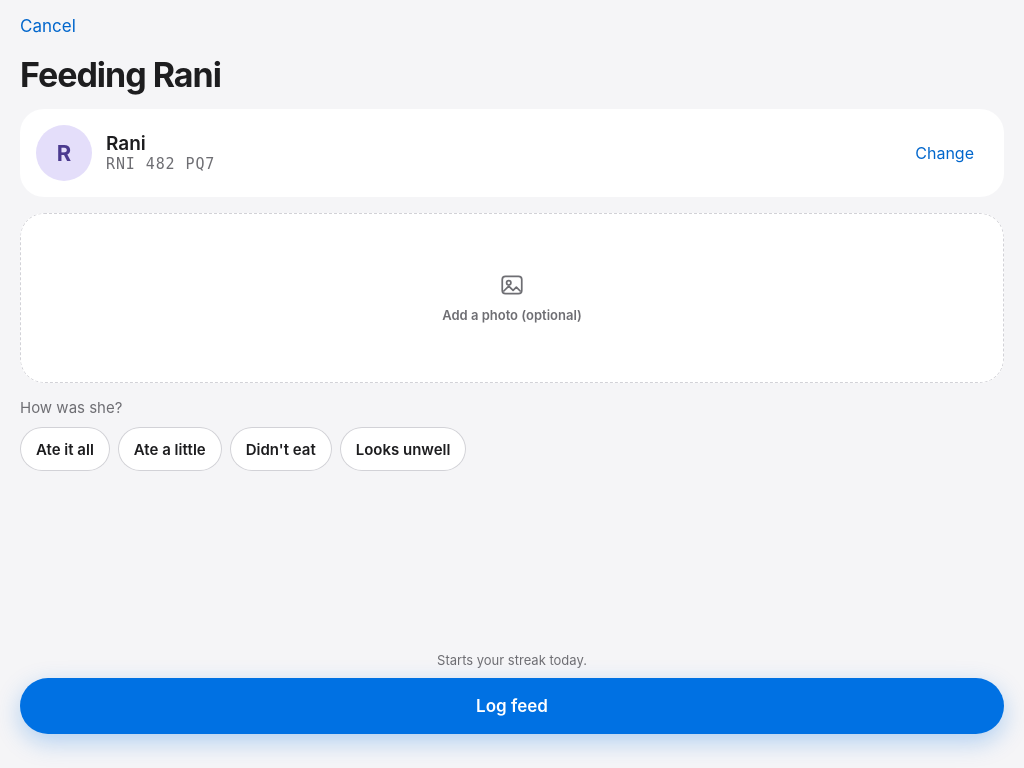
Scenario: V10 has eaten › replaces the toast with the moment, the streak, and Scan the next dog
Click the button "Log feed" at (512, 706), box [20, 678, 1004, 734]
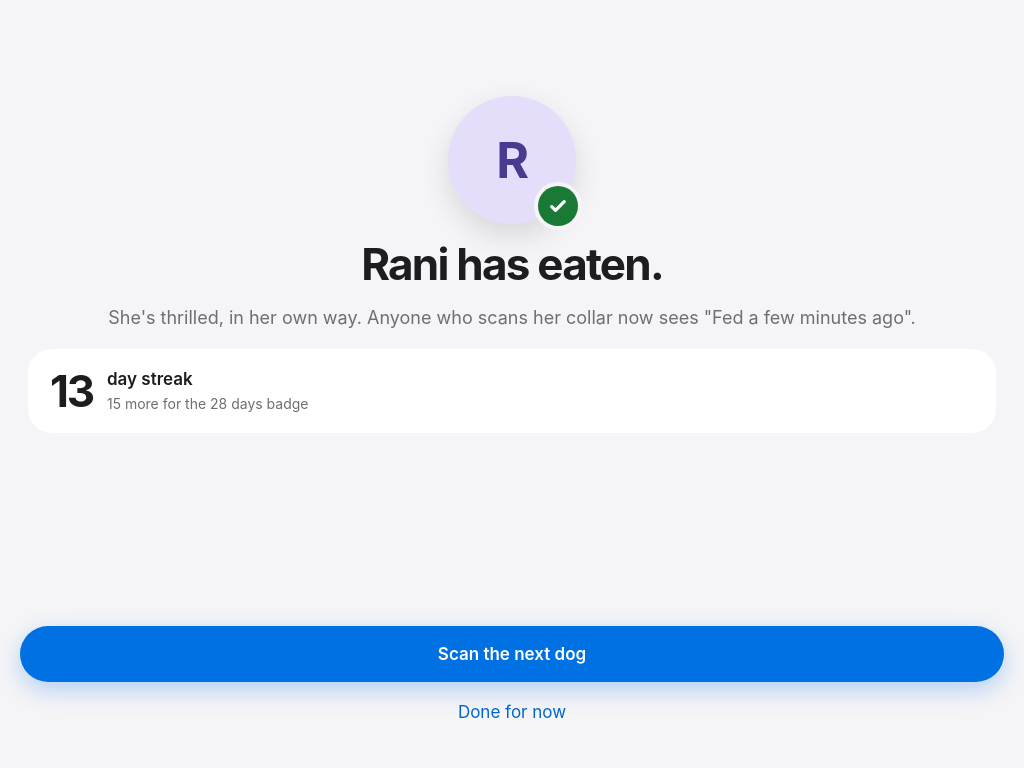
Check: the heading "Rani has eaten." is shown, box [361, 242, 663, 287]
Check: the text "She's thrilled, in her own way. Anyone who scans her collar now sees \"Fed a few minutes ago\"." is shown, box [108, 307, 916, 328]
Check: the text "13" is shown, box [50, 369, 93, 413]
